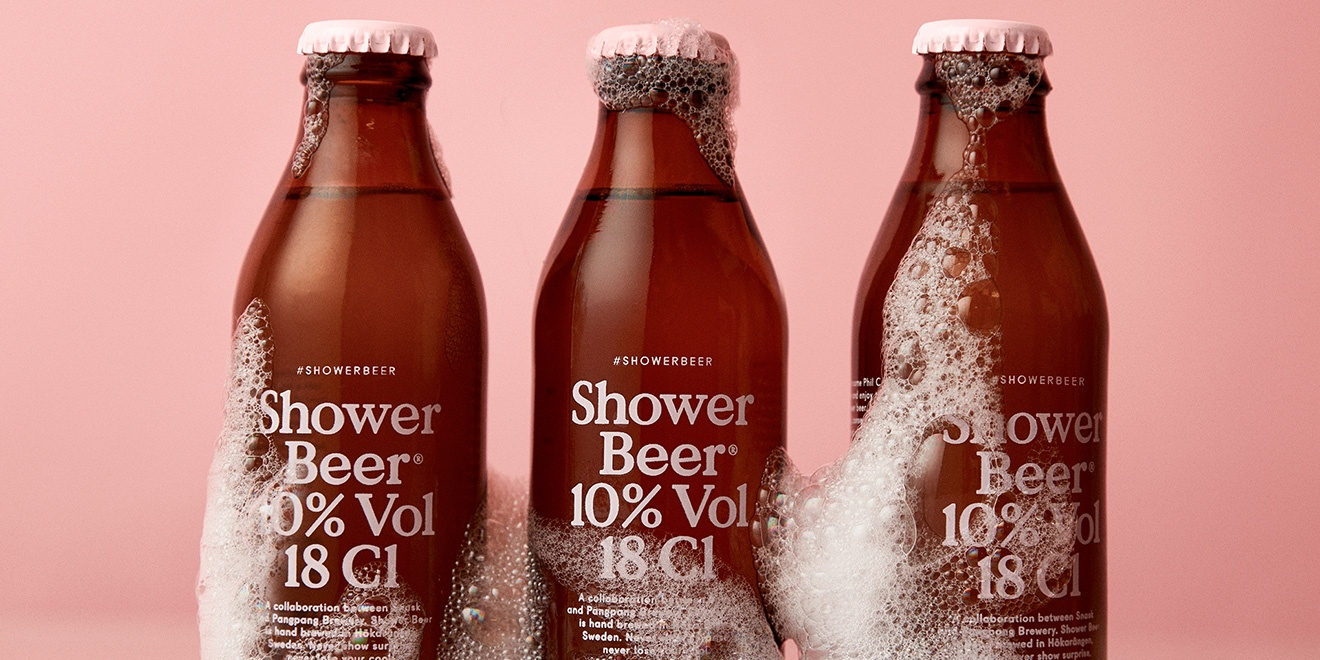beerBottle: (234, 34, 480, 660), (535, 32, 781, 658), (851, 32, 1097, 658)
